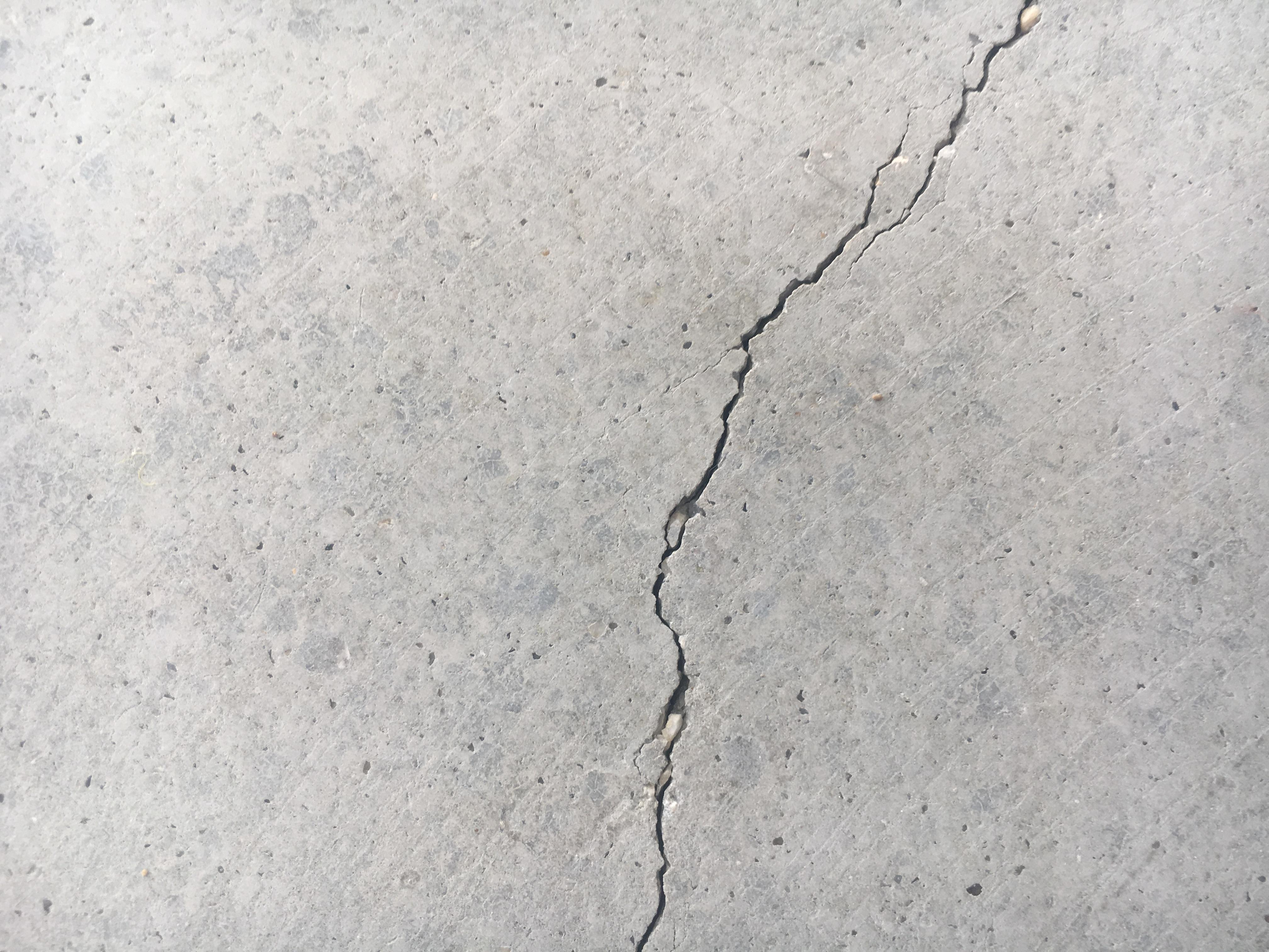Vertical Crack: (625, 3, 1042, 947)
